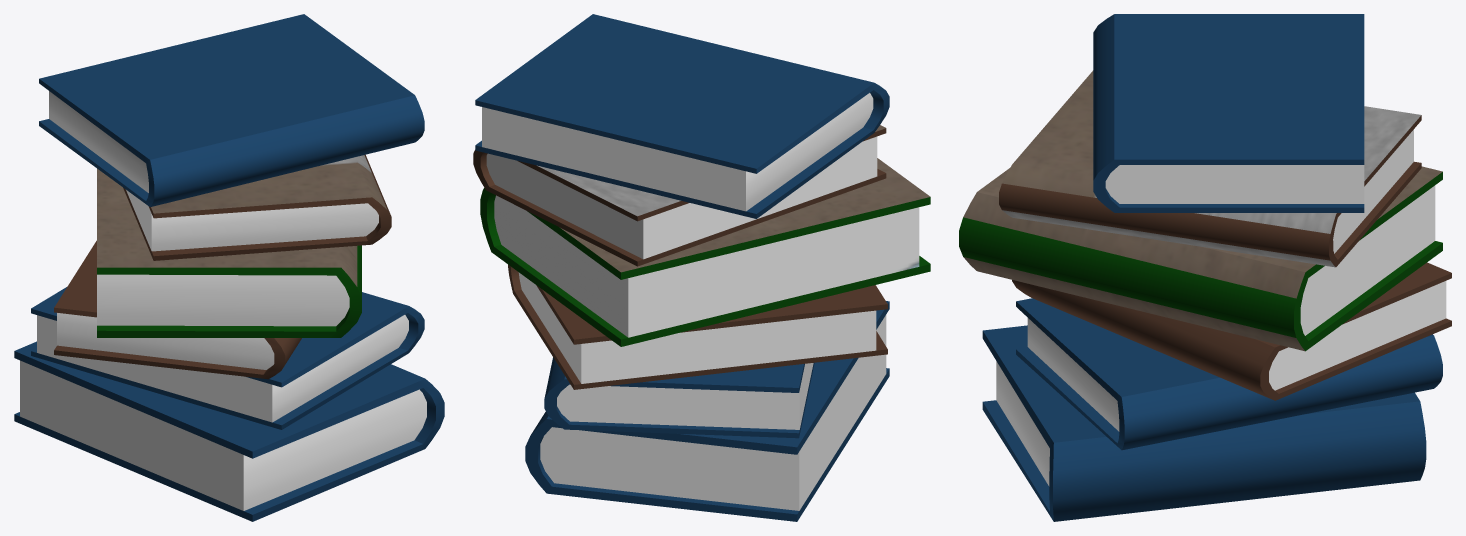
File: pileofbook.fbx
The picture shows the model from 3 angles, left to right: view 1: azimuth 30°, elevation 25°; view 2: azimuth 150°, elevation 25°; view 3: azimuth 270°, elevation 25°; orthographic projection. The views are drawn at different scales.
Parts seen in each view (by area): view 1: pasted__pCube96_1, pasted__pCube94, pasted__pCube94_1, pasted__pCube95_1, pasted__pCube95, pasted__pCube96; view 2: pasted__pCube96_1, pasted__pCube94_1, pasted__pCube94, pasted__pCube96, pasted__pCube95_1, pasted__pCube95; view 3: pasted__pCube96_1, pasted__pCube94, pasted__pCube94_1, pasted__pCube95, pasted__pCube95_1, pasted__pCube96.
Boxes of the visible parts, box(x1,y1,x2,y2) form: pasted__pCube96_1: box(39, 14, 424, 206); pasted__pCube94: box(14, 341, 444, 521); pasted__pCube94_1: box(97, 168, 361, 337); pasted__pCube95_1: box(123, 154, 391, 260); pasted__pCube95: box(31, 287, 424, 429); pasted__pCube96: box(54, 240, 301, 379); pasted__pCube96_1: box(475, 14, 889, 218); pasted__pCube94_1: box(480, 158, 930, 346); pasted__pCube94: box(525, 301, 889, 521); pasted__pCube96: box(508, 264, 887, 389); pasted__pCube95_1: box(473, 125, 886, 266); pasted__pCube95: box(544, 357, 814, 438); pasted__pCube96_1: box(1093, 14, 1364, 212); pasted__pCube94: box(982, 325, 1426, 521); pasted__pCube94_1: box(959, 166, 1442, 351); pasted__pCube95: box(1016, 298, 1442, 450); pasted__pCube95_1: box(999, 70, 1421, 267); pasted__pCube96: box(1012, 262, 1451, 400).
Size of the model in its own units: 67.45 by 61.48 by 73.93.
